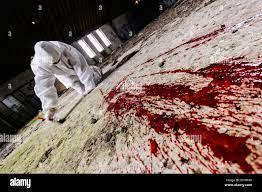Fire: (81, 54, 262, 174), (161, 24, 227, 56), (100, 89, 104, 96)
